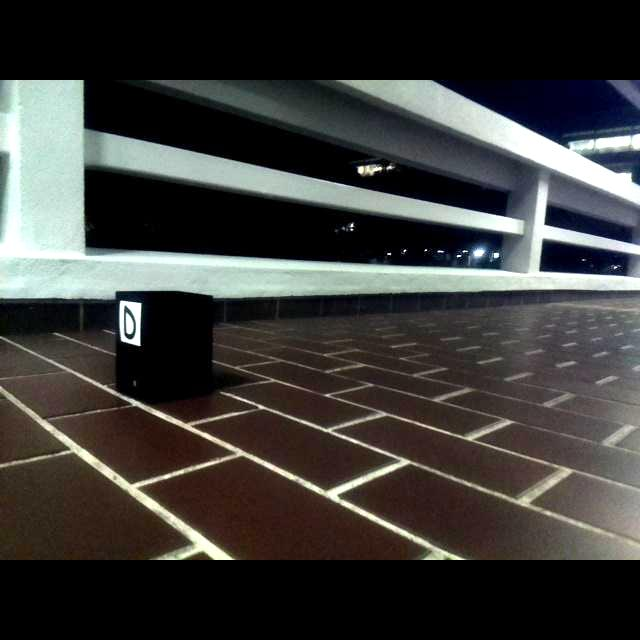D: (123, 305, 137, 340)
